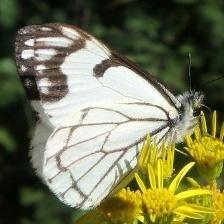butterfly: (15, 22, 212, 211)
